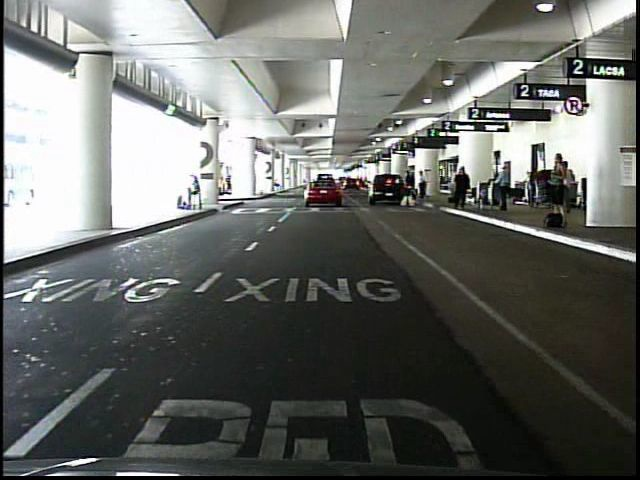person: (548, 151, 572, 214), (557, 162, 574, 212), (455, 166, 471, 210), (188, 173, 205, 214), (498, 163, 512, 212), (401, 168, 416, 208), (457, 164, 468, 203), (419, 169, 429, 200)
